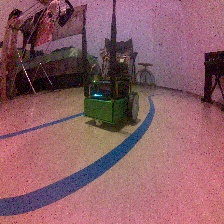rob: (82, 56, 139, 127)
